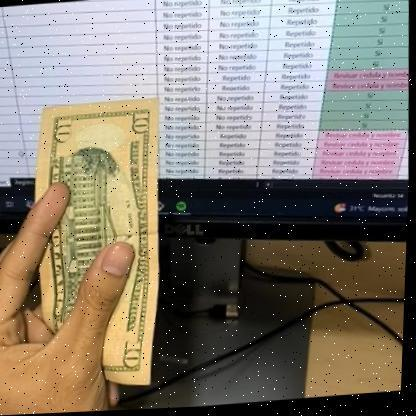dollar_back: (20, 92, 174, 401)
